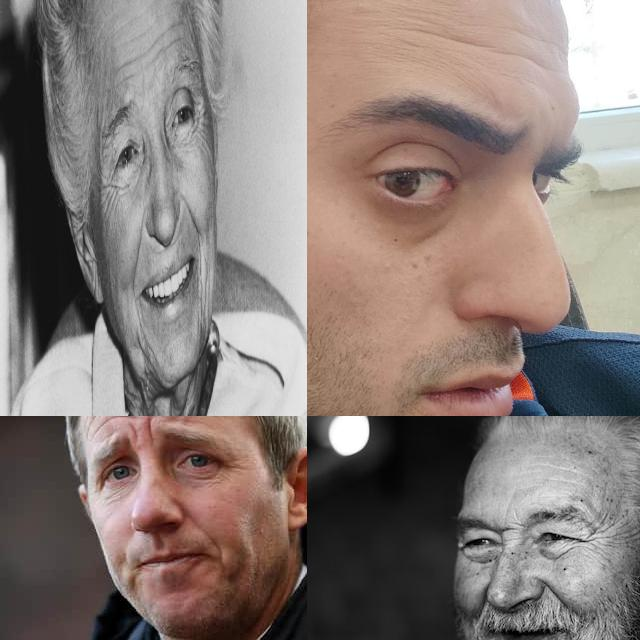chin: (196, 269, 210, 346), (137, 328, 157, 372)
crows_feet: (580, 525, 606, 557), (100, 174, 120, 210), (194, 100, 206, 145)
forehead: (413, 16, 483, 66), (496, 42, 554, 78), (154, 27, 188, 56), (548, 460, 582, 488), (502, 25, 544, 45), (116, 50, 136, 89), (88, 416, 118, 427)
frown_line: (141, 416, 159, 446), (498, 518, 520, 542), (126, 418, 140, 448)
gummy_smile: (178, 190, 201, 234), (538, 573, 570, 603), (129, 228, 144, 286), (202, 526, 226, 560), (471, 590, 492, 628)
sad_smile: (194, 240, 204, 282), (133, 292, 142, 325)
